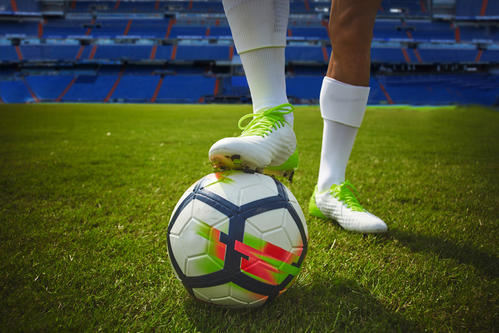football: (165, 171, 309, 308)
